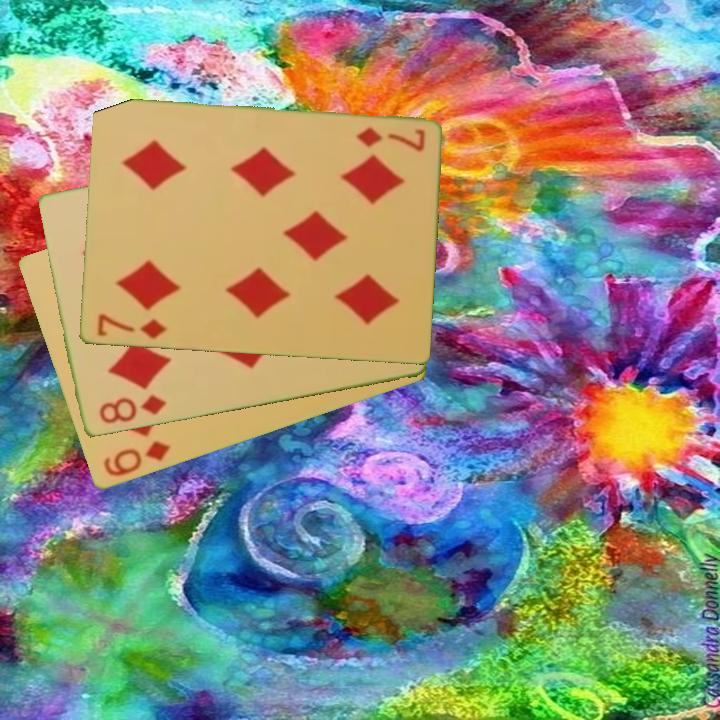6d: (100, 438, 173, 480)
7d: (93, 310, 169, 342), (352, 124, 428, 155)
8d: (95, 392, 169, 428)
